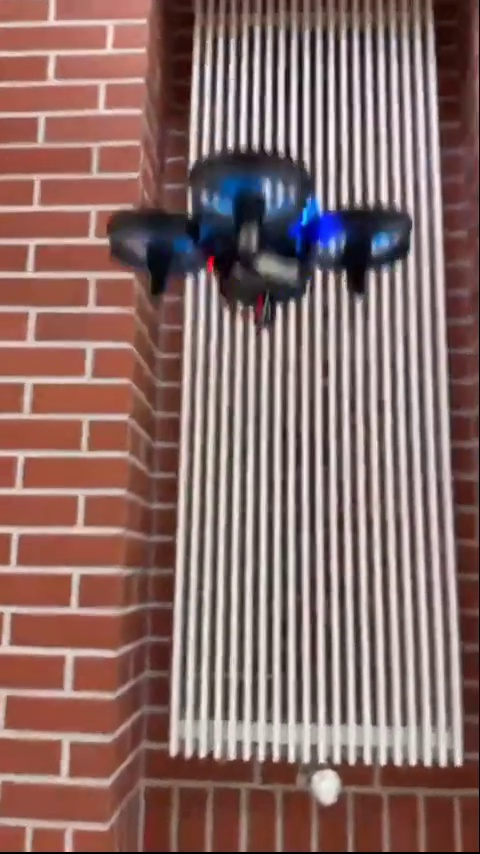drone: (104, 152, 411, 327)
